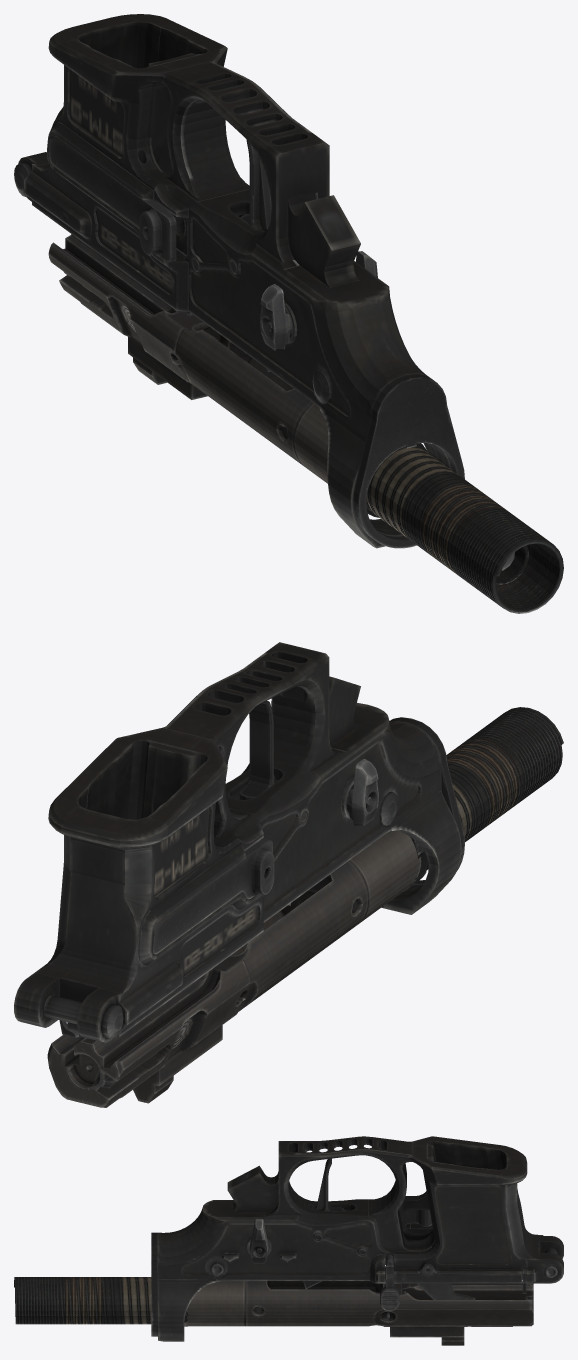
3 views of the same model, one above another, from view 1: azimuth 30°, elevation 25°; view 2: azimuth 150°, elevation 25°; view 3: azimuth 270°, elevation 25° (orthographic). The views are drawn at different scales.
Visible parts, largest first — view 1: TW_60339954d62c9b14ed777c06_PZ_Import; view 2: TW_60339954d62c9b14ed777c06_PZ_Import; view 3: TW_60339954d62c9b14ed777c06_PZ_Import.
Part boxes in pixels (<box>): TW_60339954d62c9b14ed777c06_PZ_Import: <box>14,14,563,613</box>; TW_60339954d62c9b14ed777c06_PZ_Import: <box>14,642,563,1107</box>; TW_60339954d62c9b14ed777c06_PZ_Import: <box>14,1136,563,1345</box>.
Bounding box in the file's own units: 0.0226 × 0.1541 × 0.0623.
Materials: 1 (1 with a texture image).
